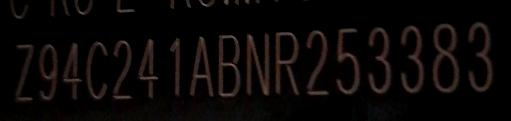letter: (461, 19, 503, 96), (426, 19, 464, 94), (330, 24, 367, 99), (361, 23, 397, 98), (394, 21, 429, 98), (243, 28, 274, 105), (212, 28, 243, 101), (272, 28, 304, 97), (303, 27, 331, 100), (161, 32, 190, 101), (7, 41, 38, 104), (187, 35, 215, 104), (107, 38, 136, 103), (134, 34, 161, 103), (82, 40, 109, 105), (58, 38, 83, 105), (36, 42, 60, 103)
